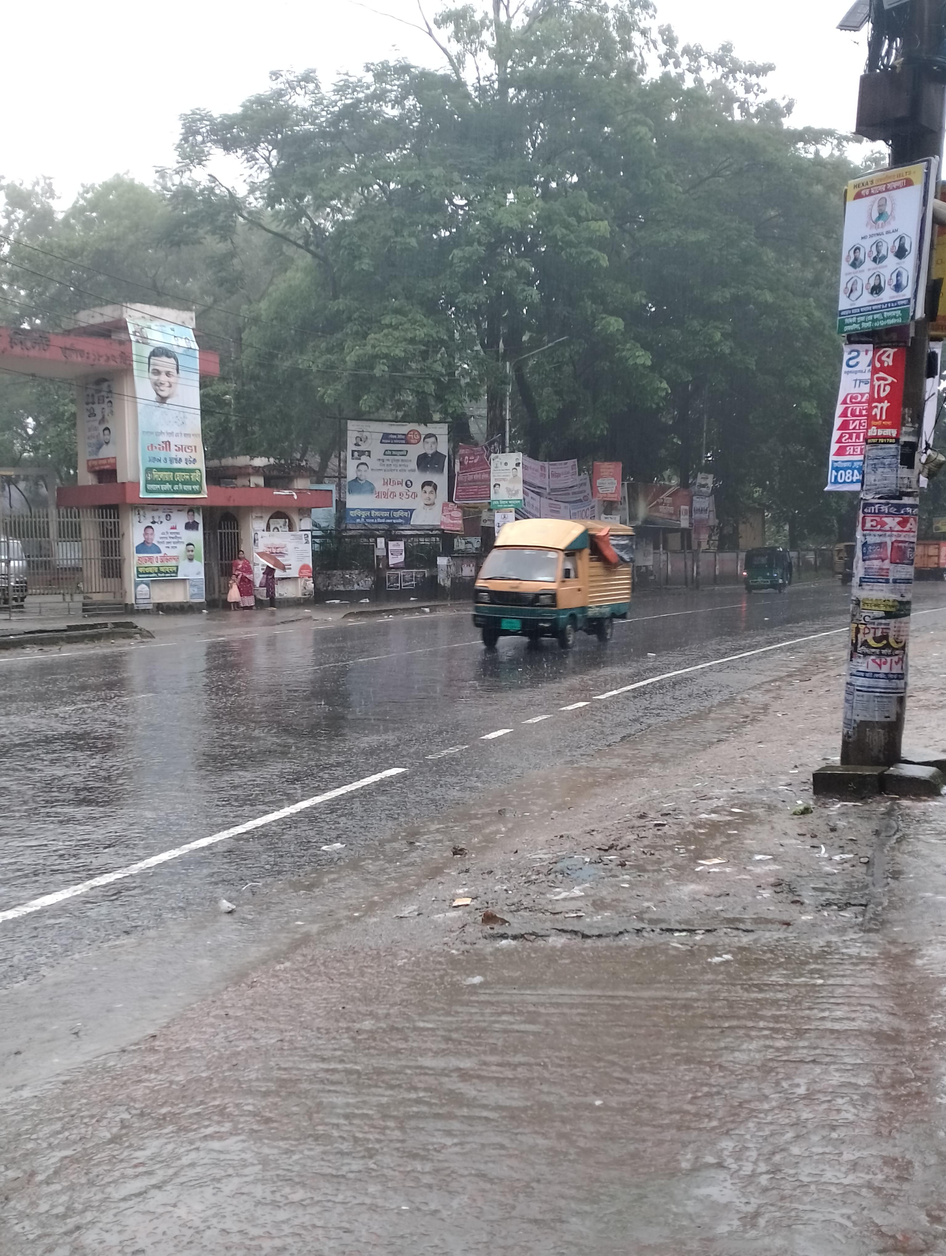Car: (463, 503, 644, 697)
